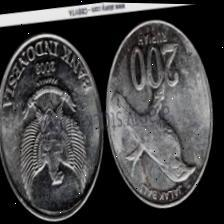coin_200_e2003: (103, 18, 215, 209), (0, 31, 104, 223)
